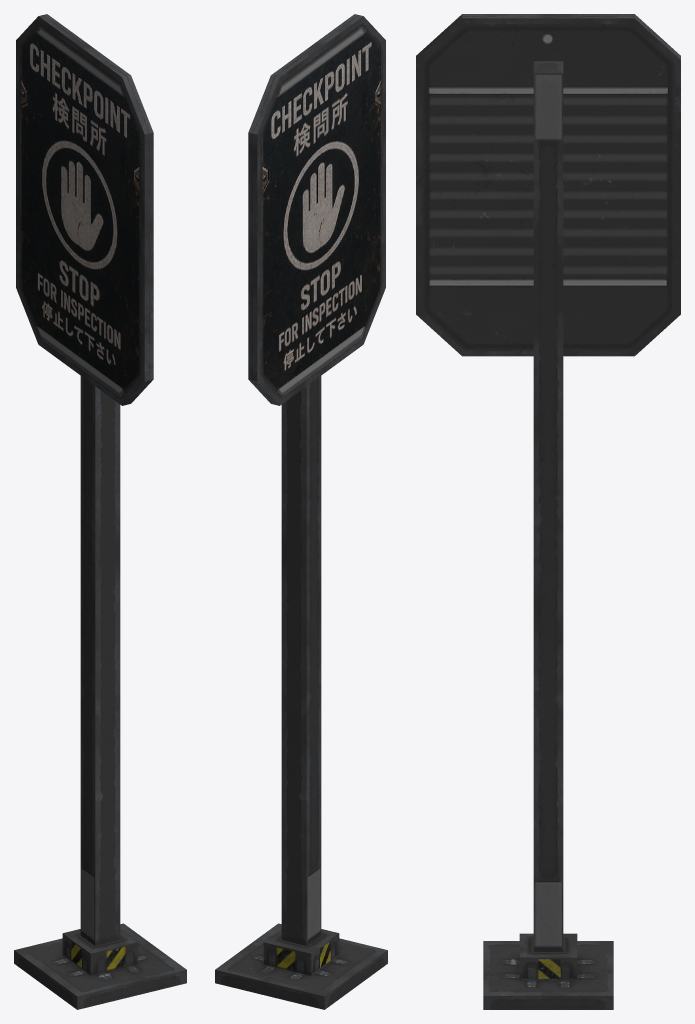
Rendered from CP_Road_Sign_Checkpoint.fbx.
3 views of the same model, side by side, from view 1: azimuth 30°, elevation 25°; view 2: azimuth 150°, elevation 25°; view 3: azimuth 270°, elevation 25° (orthographic). The views are drawn at different scales.
Parts seen in each view (by area): view 1: CP_Road_Sign_Checkpoint; view 2: CP_Road_Sign_Checkpoint; view 3: CP_Road_Sign_Checkpoint.
Boxes of the visible parts, x1,y1,x2,y2 form: CP_Road_Sign_Checkpoint: (14, 14, 186, 1009); CP_Road_Sign_Checkpoint: (215, 14, 387, 1009); CP_Road_Sign_Checkpoint: (416, 14, 680, 1009).
Size of the model in its own units: 34.27 by 278 by 69.76.
